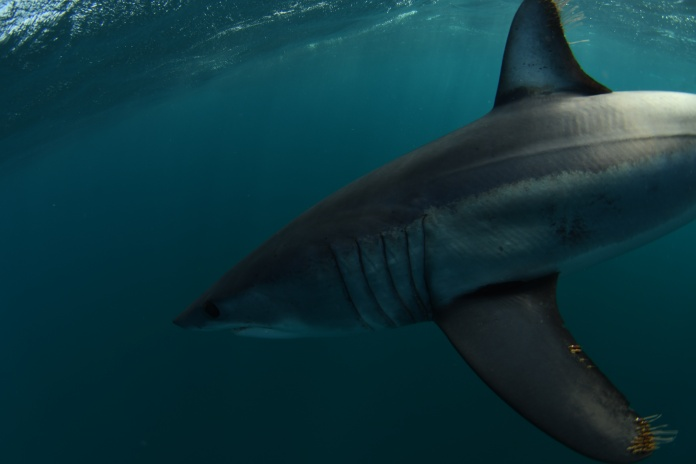Mako: (167, 1, 696, 461)
